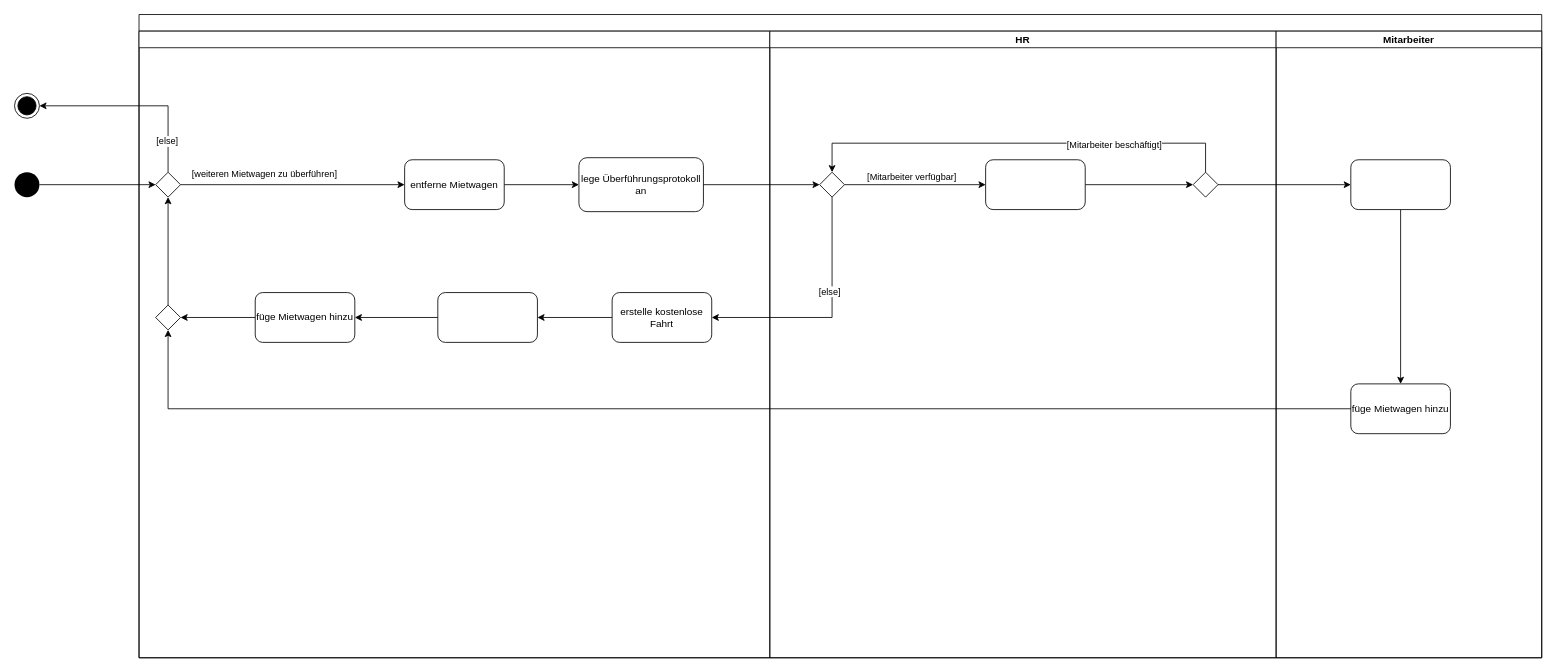
The diagram is 1556 pixels wide and 672 high, and some of its shapes have lost their labels. Here are the shapes that lost their labels. From the top down, the box of each, then its label:
(985, 159, 1085, 210): suche Mitarbeiter heraus
(1350, 159, 1450, 210): arbeite Überführungsprotokoll ab
(437, 292, 537, 342): lösche Überführungsprotokoll
(138, 30, 770, 658): Unternehmenszentrale
